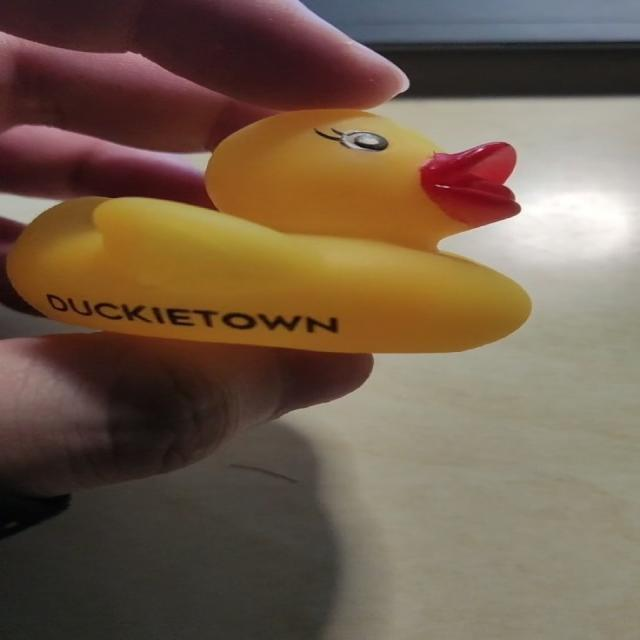rubber-duck: (6, 109, 529, 351)
